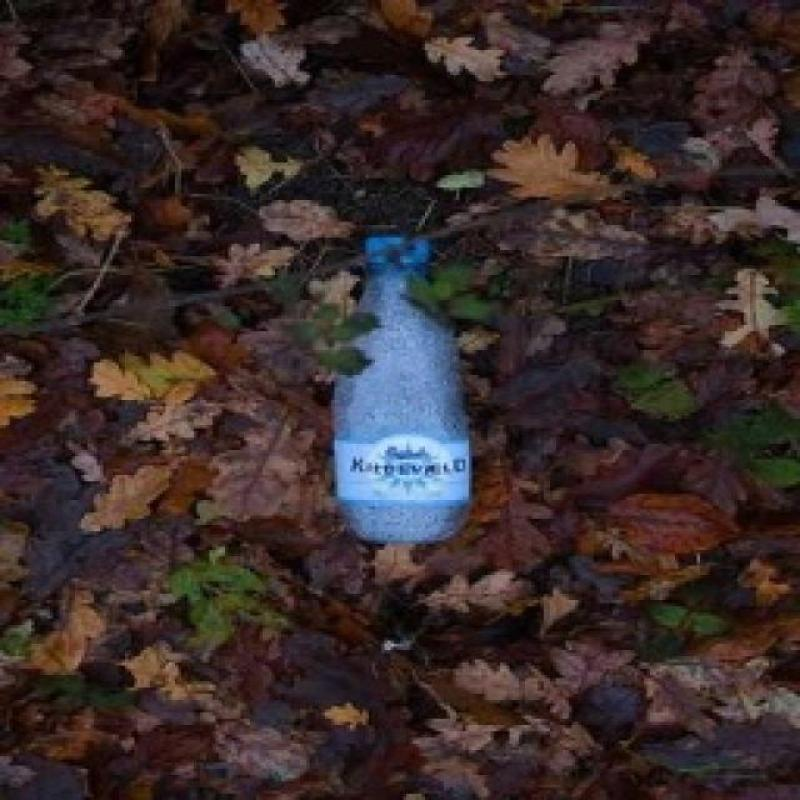botella: (337, 236, 478, 549)
